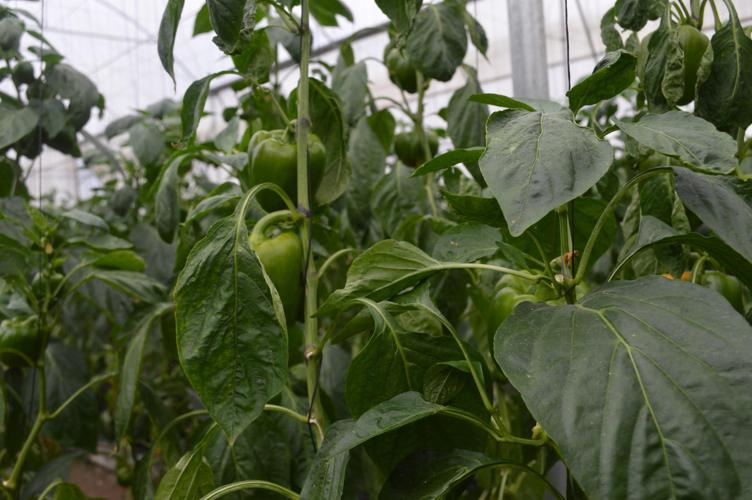BellPepper: (475, 258, 587, 389), (228, 213, 308, 341), (241, 121, 327, 218), (372, 31, 437, 109), (391, 117, 441, 158)
